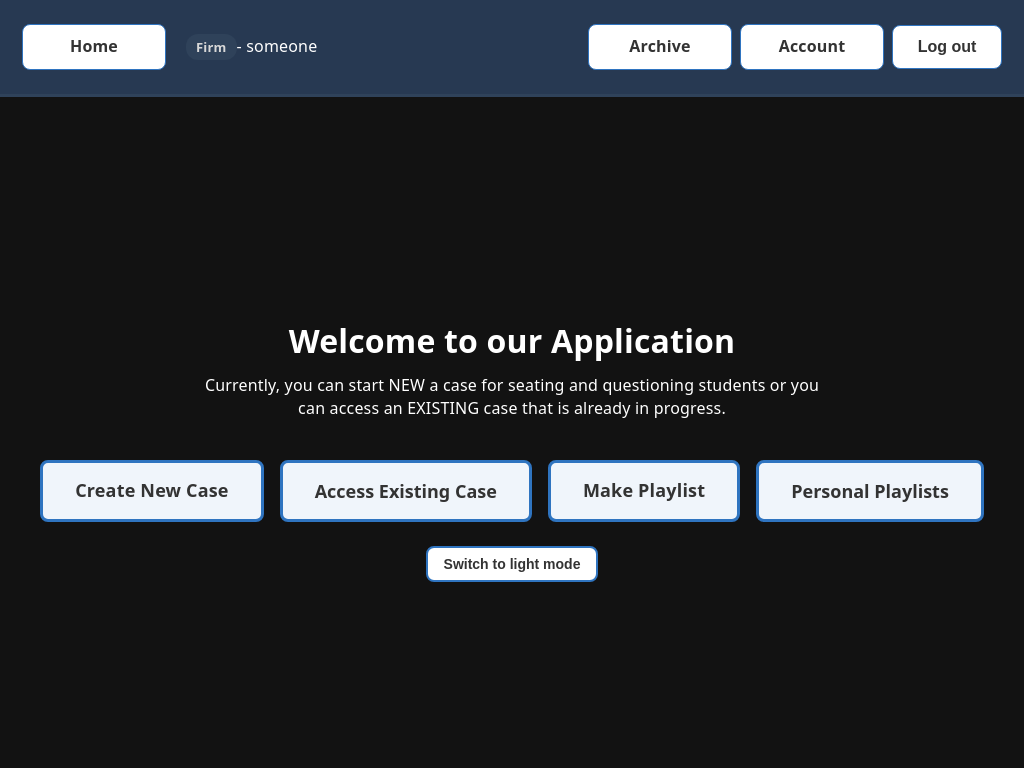
Scenario: DashboardScreen playlist edit and delete (spec 022) › warns before deleting, and Cancel restores the playlist view
Click the button "Personal Playlists". click: (870, 491)
box: left=756, top=460, right=984, bottom=522
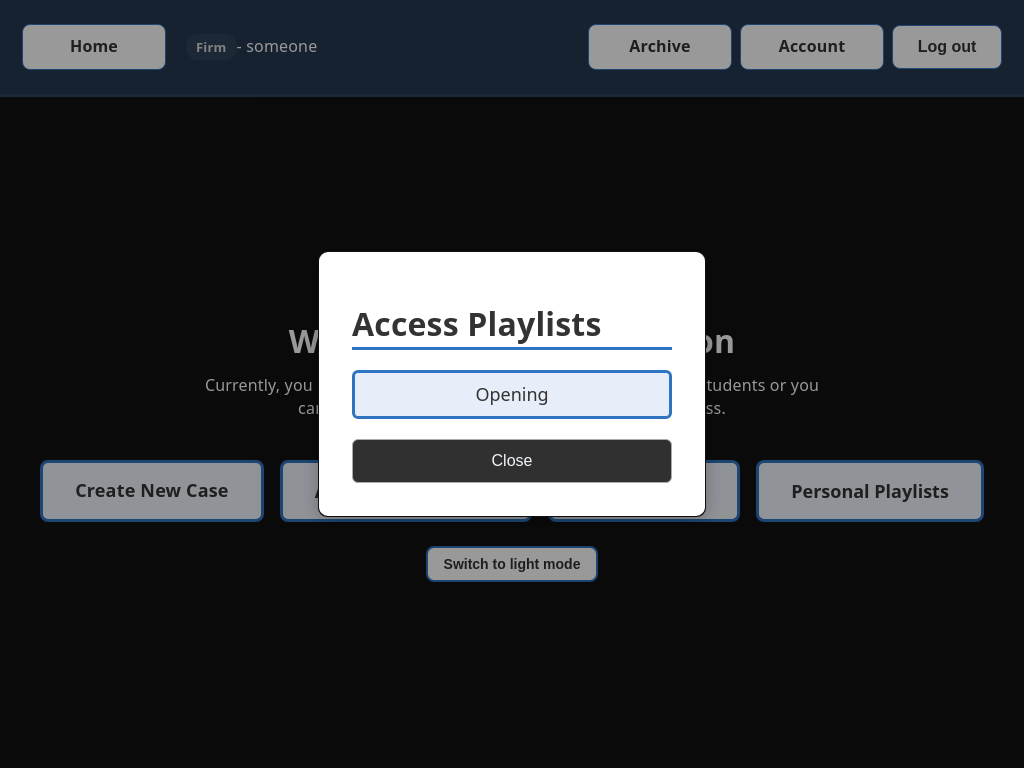
Click the button "Opening". click: (512, 394)
box: left=352, top=370, right=672, bottom=419
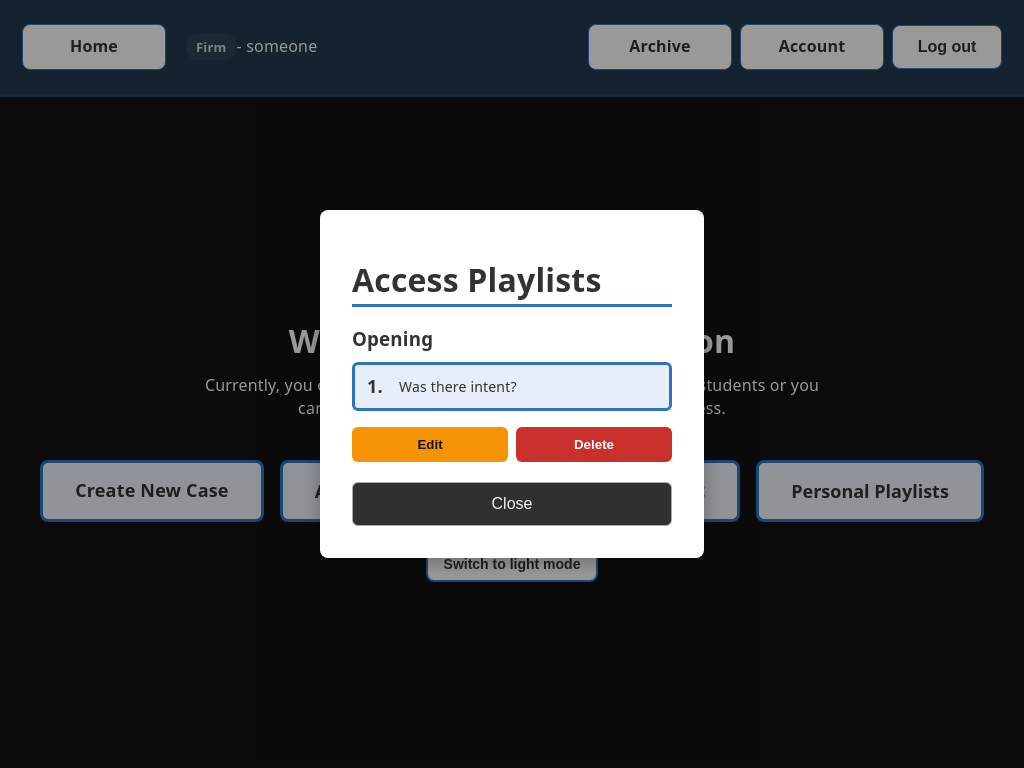
expect the text "Was there intent?" is shown: met, box left=399, top=377, right=517, bottom=396
Click the button "Delete". click: (594, 445)
box: left=516, top=427, right=672, bottom=462
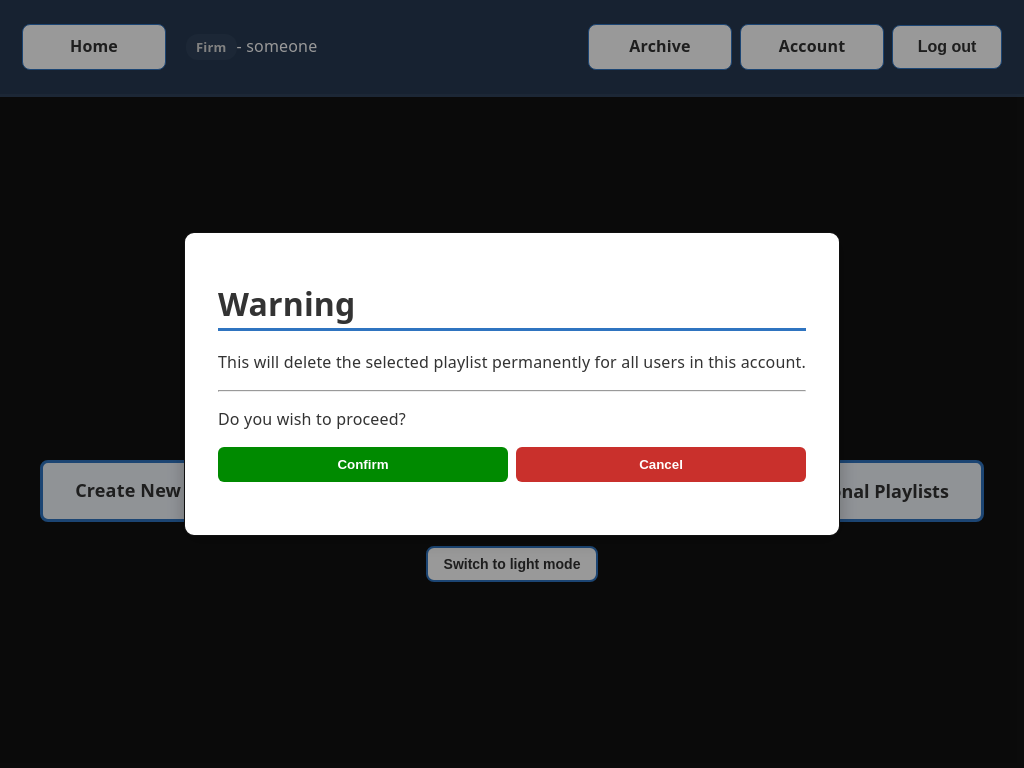
expect the text "This will delete the selected playlist permanently for all users in this account." is shown: met, box left=218, top=351, right=806, bottom=373
expect the text "Do you wish to proceed?" is shown: met, box left=218, top=408, right=406, bottom=430
Click the button "Cancel". click: (661, 465)
box: left=516, top=447, right=806, bottom=482
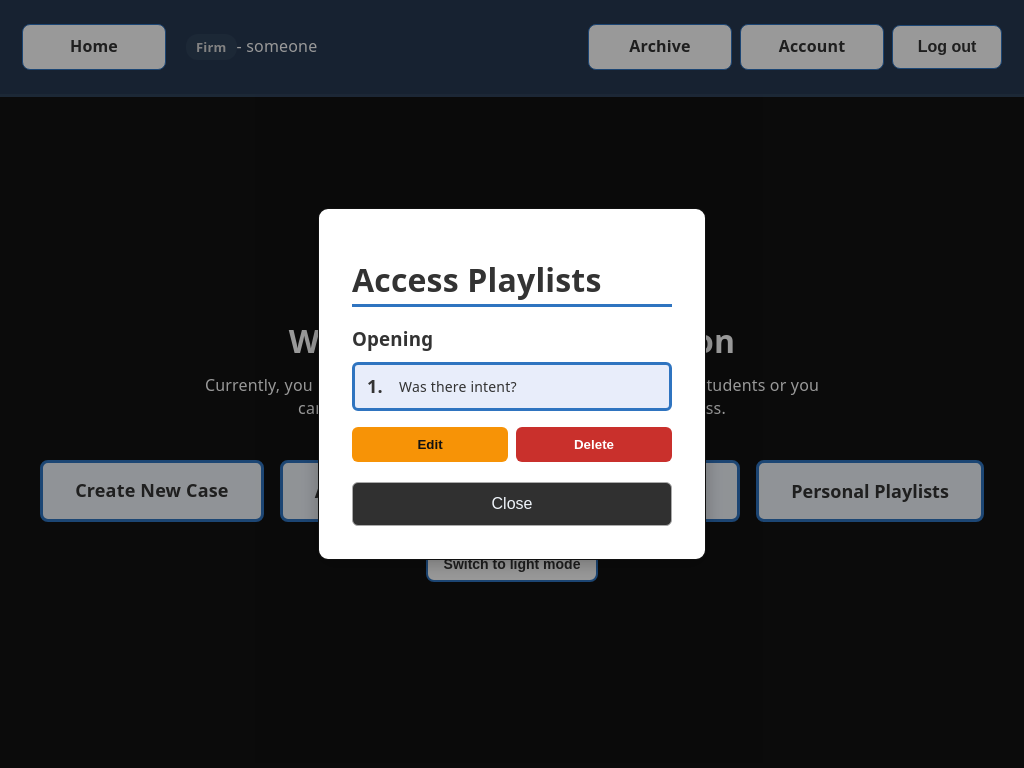
expect the heading "Warning" is gone: met
expect the text "Was there intent?" is shown: met, box left=399, top=377, right=517, bottom=396
